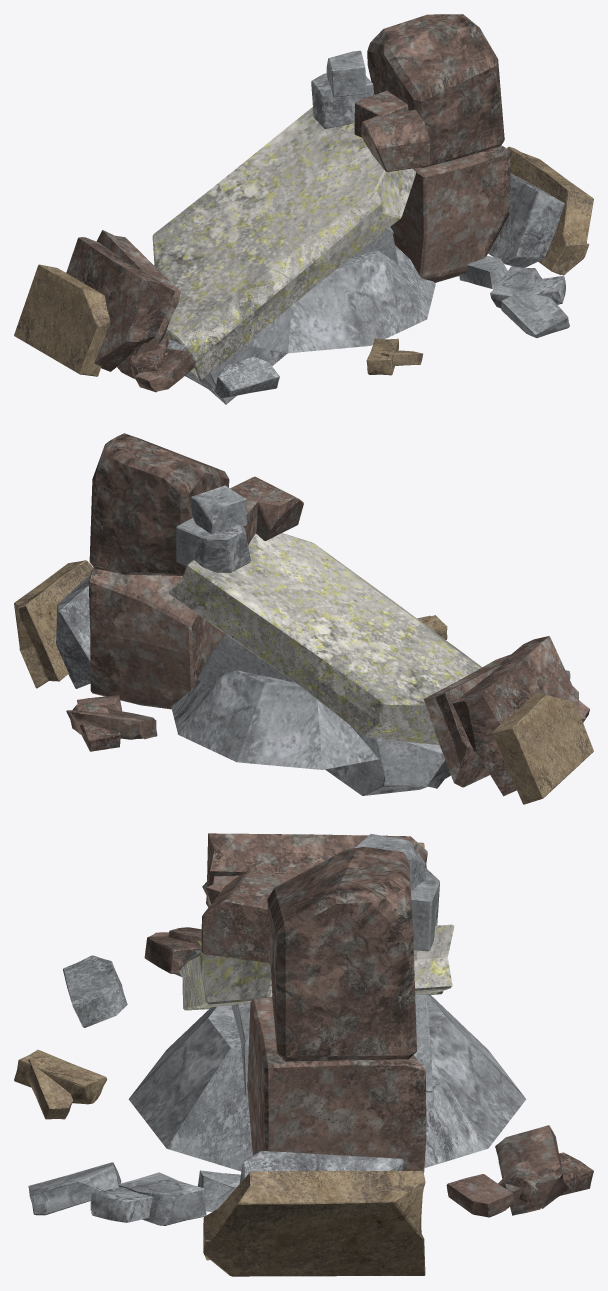
Rendered from cima-paul.glb.
The picture shows the model from 3 angles, top to bottom: view 1: azimuth 30°, elevation 25°; view 2: azimuth 150°, elevation 25°; view 3: azimuth 270°, elevation 25°; orthographic projection. The views are drawn at different scales.
Visible parts, largest first — view 1: hito_granito_rojizo, hito_granito_liquen, hito_granito_gris, hito_granito_ocre, bloque4, bloque1, bloque9, bloque13, bloque0, bloque7, bloque5, bloque6; view 2: hito_granito_rojizo, hito_granito_liquen, hito_granito_gris, hito_granito_ocre, bloque11, bloque2; view 3: hito_granito_rojizo, hito_granito_gris, hito_granito_ocre, hito_granito_liquen, bloque11, bloque1, bloque13, bloque4, bloque7, bloque12, bloque2, bloque6 (+3 smaller).
Boxes of the visible parts, x1,y1,x2,y2 form: hito_granito_rojizo: [66, 14, 511, 378]; hito_granito_liquen: [152, 107, 415, 380]; hito_granito_gris: [185, 50, 564, 404]; hito_granito_ocre: [14, 146, 593, 376]; bloque4: [501, 290, 569, 337]; bloque1: [214, 357, 279, 398]; bloque9: [134, 348, 194, 392]; bloque13: [490, 266, 541, 308]; bloque0: [459, 255, 507, 288]; bloque7: [366, 338, 398, 375]; bloque5: [130, 337, 169, 376]; bloque6: [529, 275, 565, 304]; hito_granito_rojizo: [88, 433, 578, 796]; hito_granito_liquen: [168, 533, 481, 745]; hito_granito_gris: [56, 485, 450, 795]; hito_granito_ocre: [14, 560, 593, 804]; bloque11: [66, 709, 157, 739]; bloque2: [73, 702, 120, 751]; hito_granito_rojizo: [201, 833, 427, 1218]; hito_granito_gris: [128, 834, 526, 1183]; hito_granito_ocre: [203, 842, 425, 1276]; hito_granito_liquen: [179, 924, 454, 1010]; bloque11: [495, 1125, 569, 1215]; bloque1: [63, 955, 127, 1027]; bloque13: [118, 1172, 206, 1225]; bloque4: [28, 1162, 121, 1215]; bloque7: [14, 1049, 107, 1104]; bloque12: [446, 1174, 513, 1217]; bloque2: [498, 1152, 593, 1204]; bloque6: [90, 1187, 153, 1222].
Size of the model in its own units: 4.39 by 2.3 by 2.92.
Materials: 4 (4 with a texture image).
